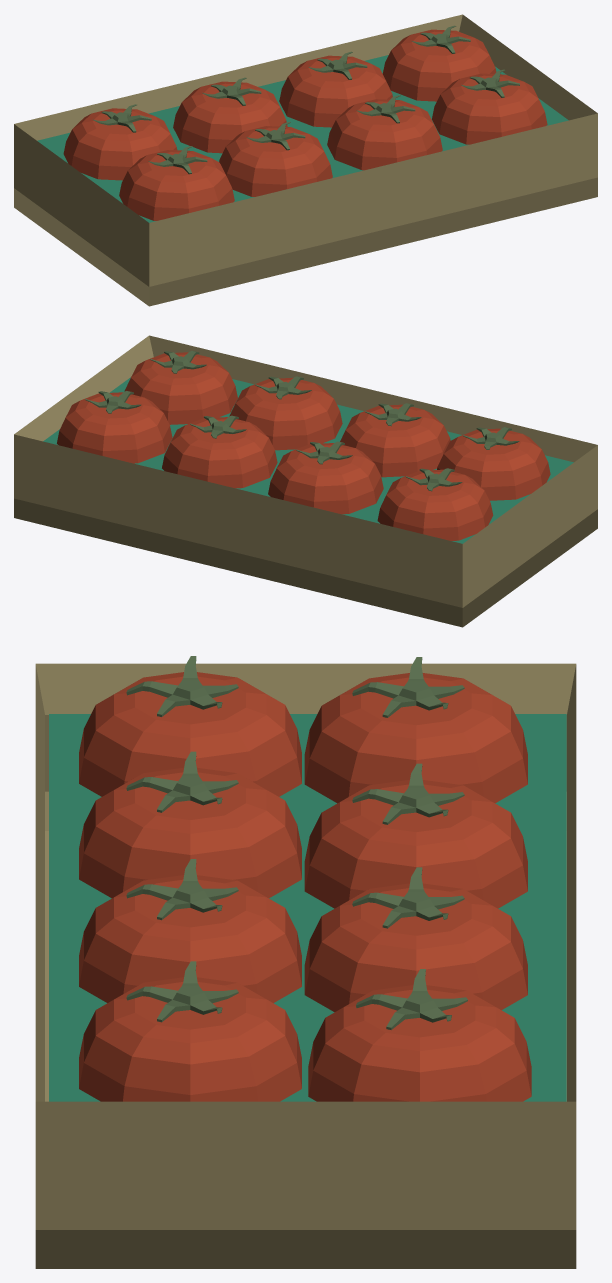
Rendered from tomato_box.fbx.
3 views of the same model, one above another, from view 1: azimuth 30°, elevation 25°; view 2: azimuth 150°, elevation 25°; view 3: azimuth 270°, elevation 25° (orthographic). The views are drawn at different scales.
Visible parts, largest first — view 1: tomato_box; view 2: tomato_box; view 3: tomato_box.
Boxes of the visible parts, x1=… form: tomato_box: x1=14, y1=14, x2=597, y2=306; tomato_box: x1=14, y1=335, x2=597, y2=627; tomato_box: x1=35, y1=656, x2=576, y2=1268.
Size of the model in its own units: 115 by 26.17 by 60.15.
